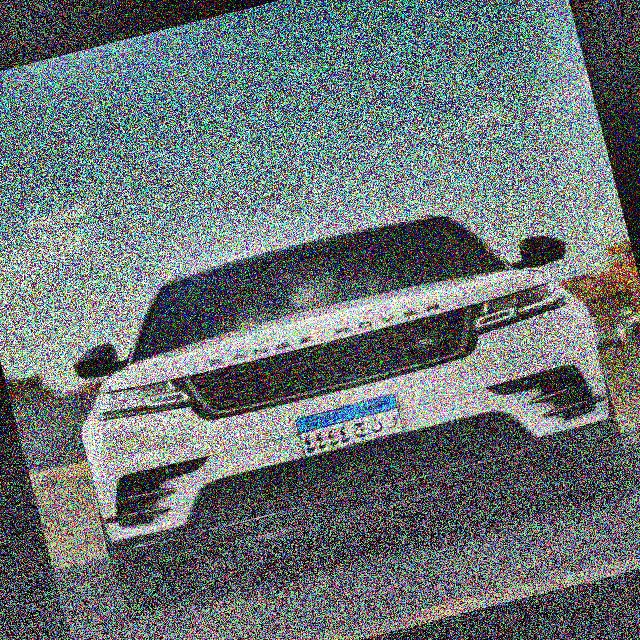License Plate: (293, 391, 406, 459)
